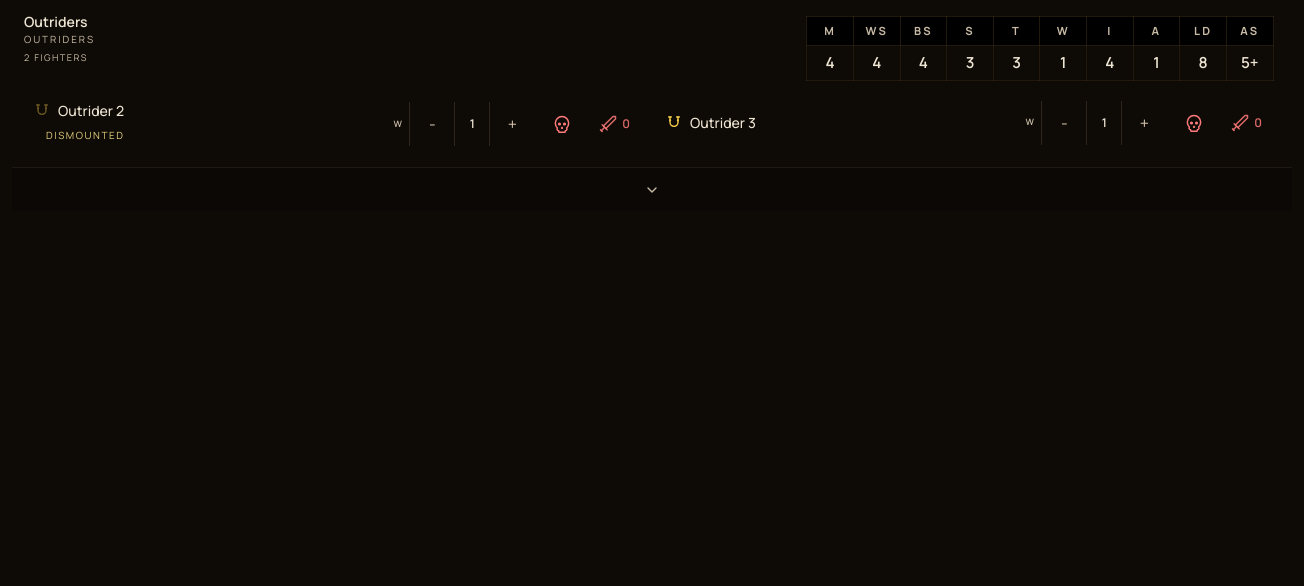
Test case: review findings (step 5) › lists every riding member's mount entries on a group's tabs, not one member's
Click the button named "Details for Outriders".
click(652, 189)  # box [12,167,1292,211]
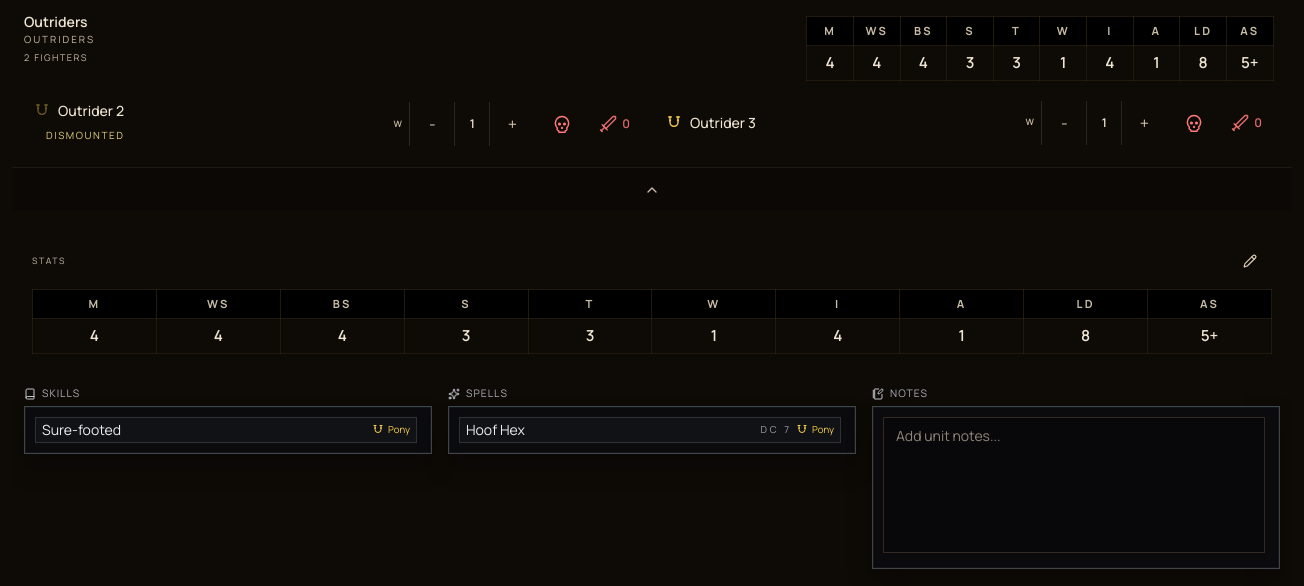
Result: the button named "Sure-footed (from Pony, mount)" is shown at [42,420,368,440]
